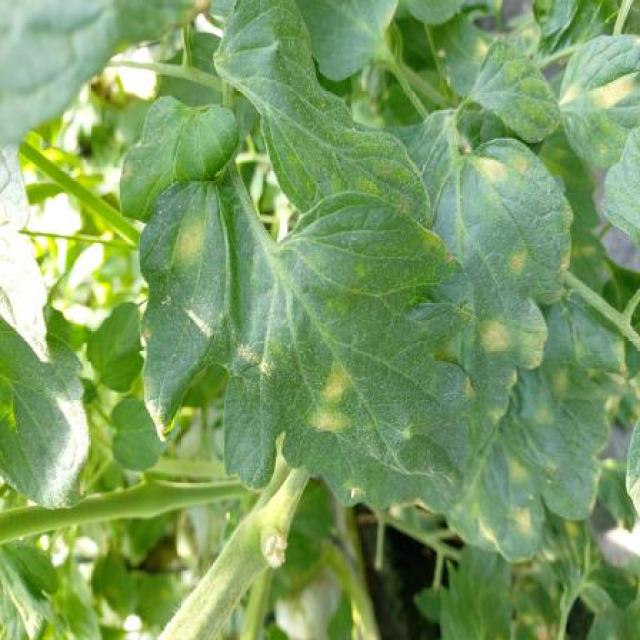Leaf Mold: (139, 173, 477, 516)
